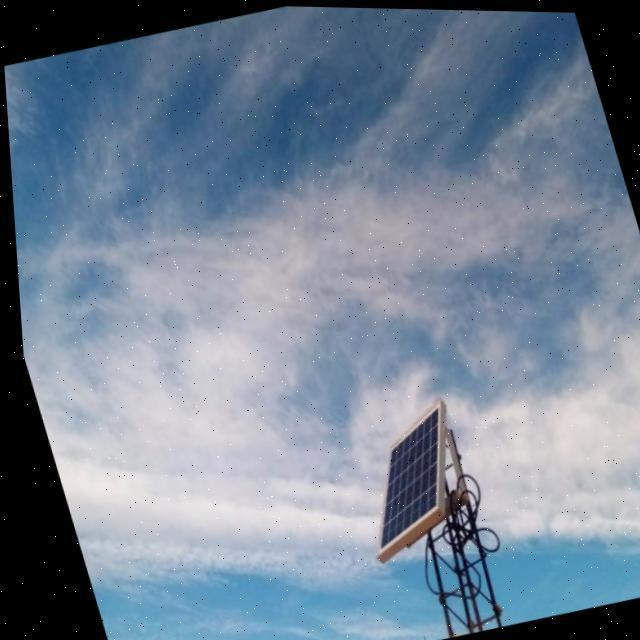Normal Solar Panel: (329, 396, 474, 556)
